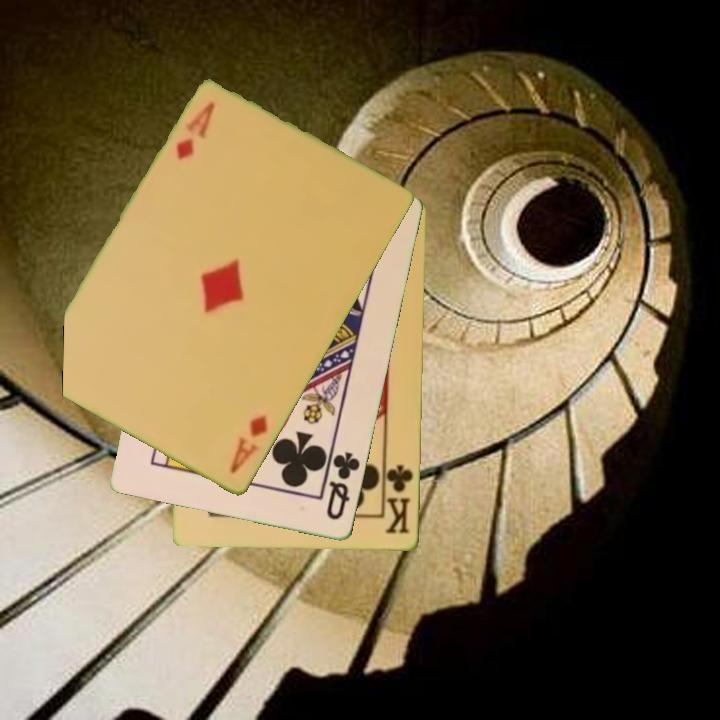Ad: (226, 411, 271, 478), (172, 99, 219, 163)
Kc: (381, 457, 416, 537)
Qc: (323, 448, 364, 524)
